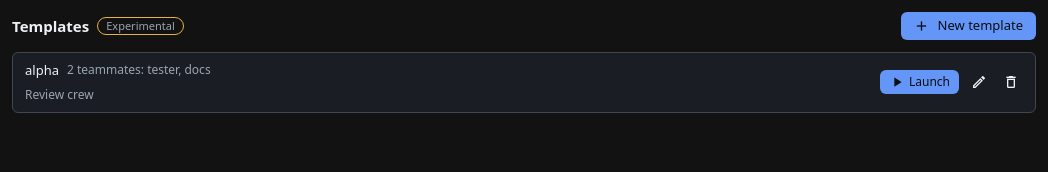
TeamTemplatesPanel › launches a template into a new tab and opens it
Click the button with aria-label "Launch alpha".
click(919, 82)  # box [880,70,959,94]
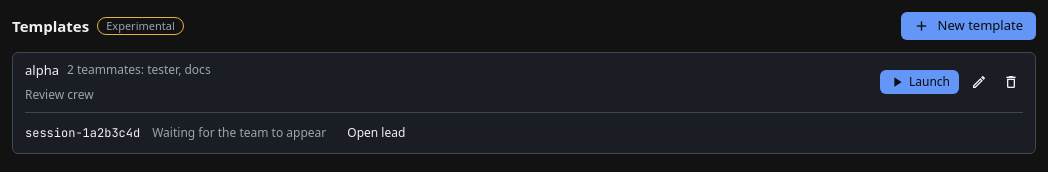
Now the text "Waiting for the team to appear" is shown, box [152,125,326,141]
